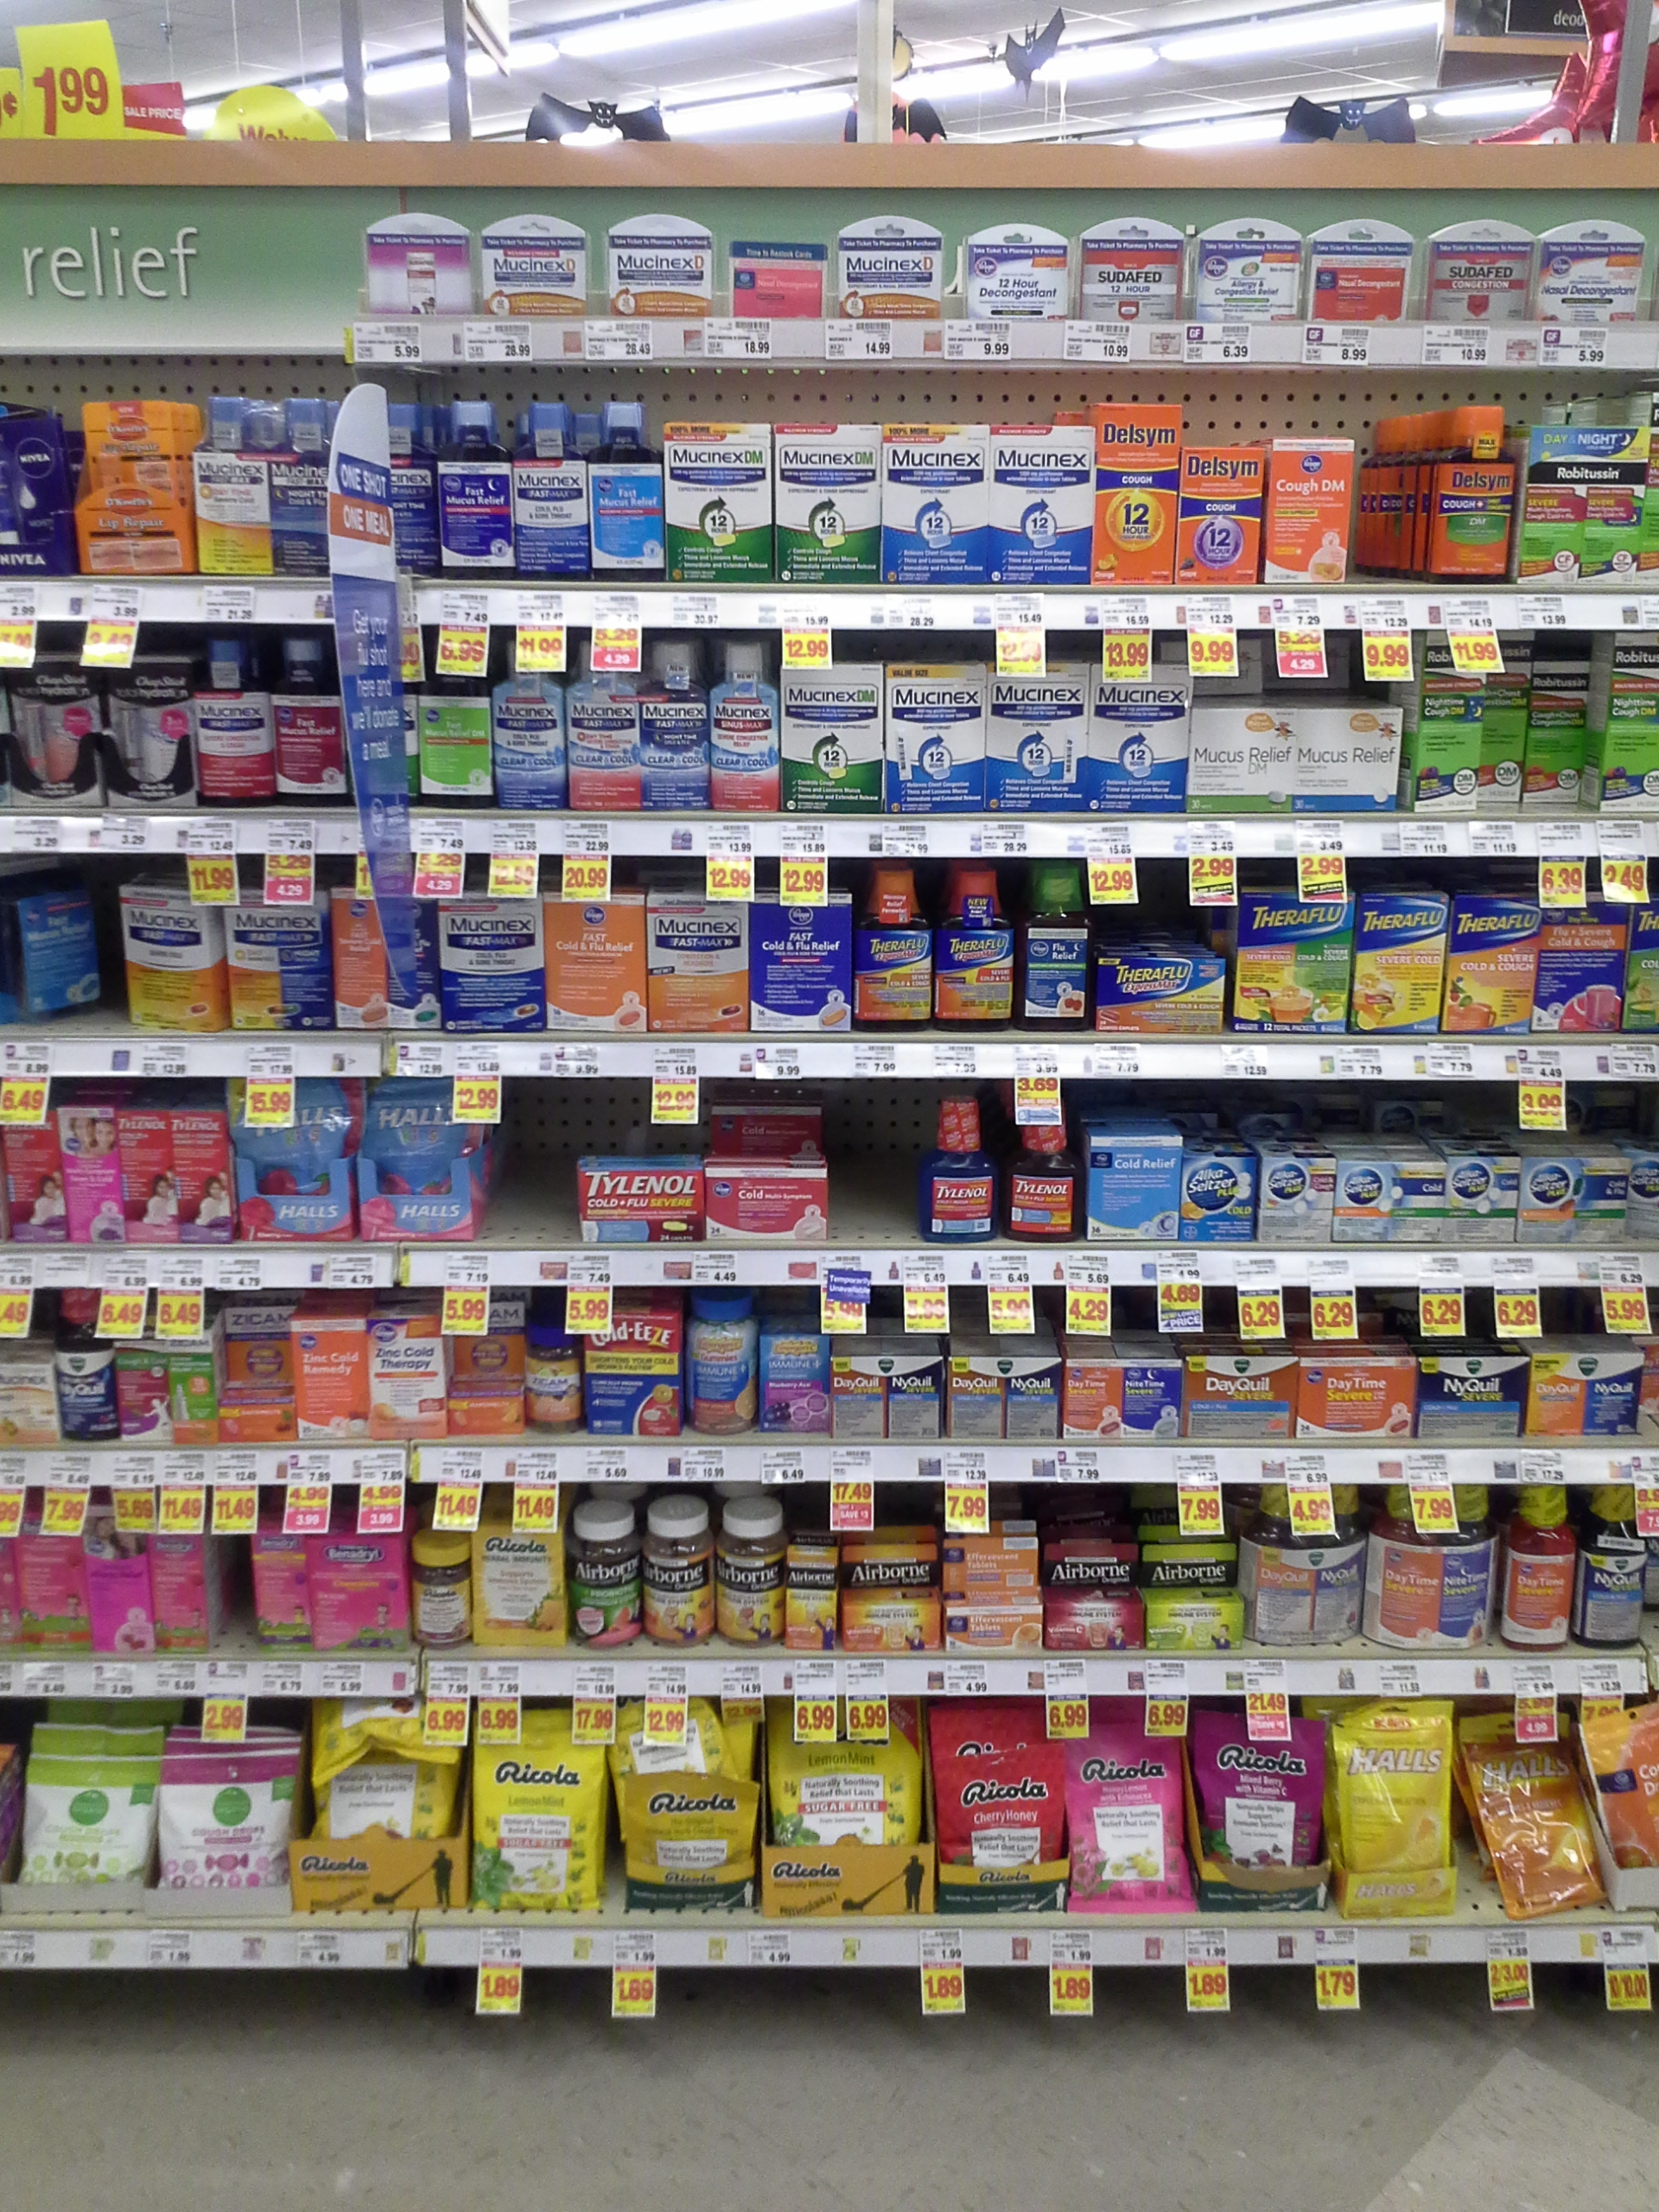Out-of-stock: (829, 1078, 924, 1244)
